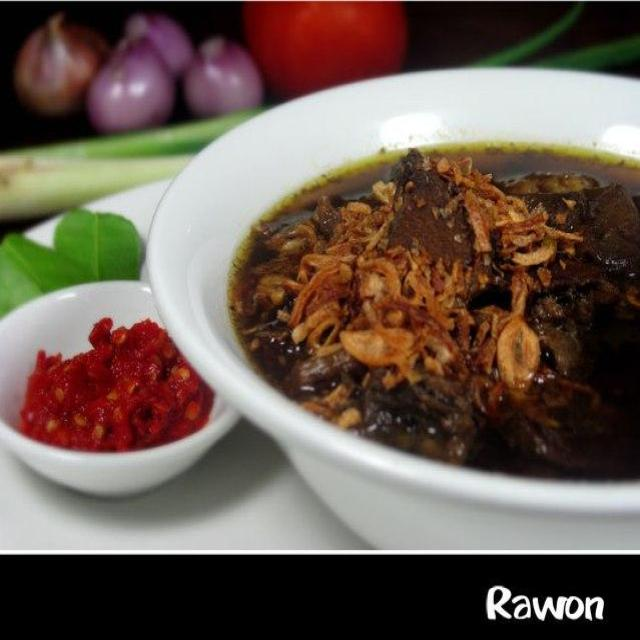Rawon: (248, 125, 632, 454)
